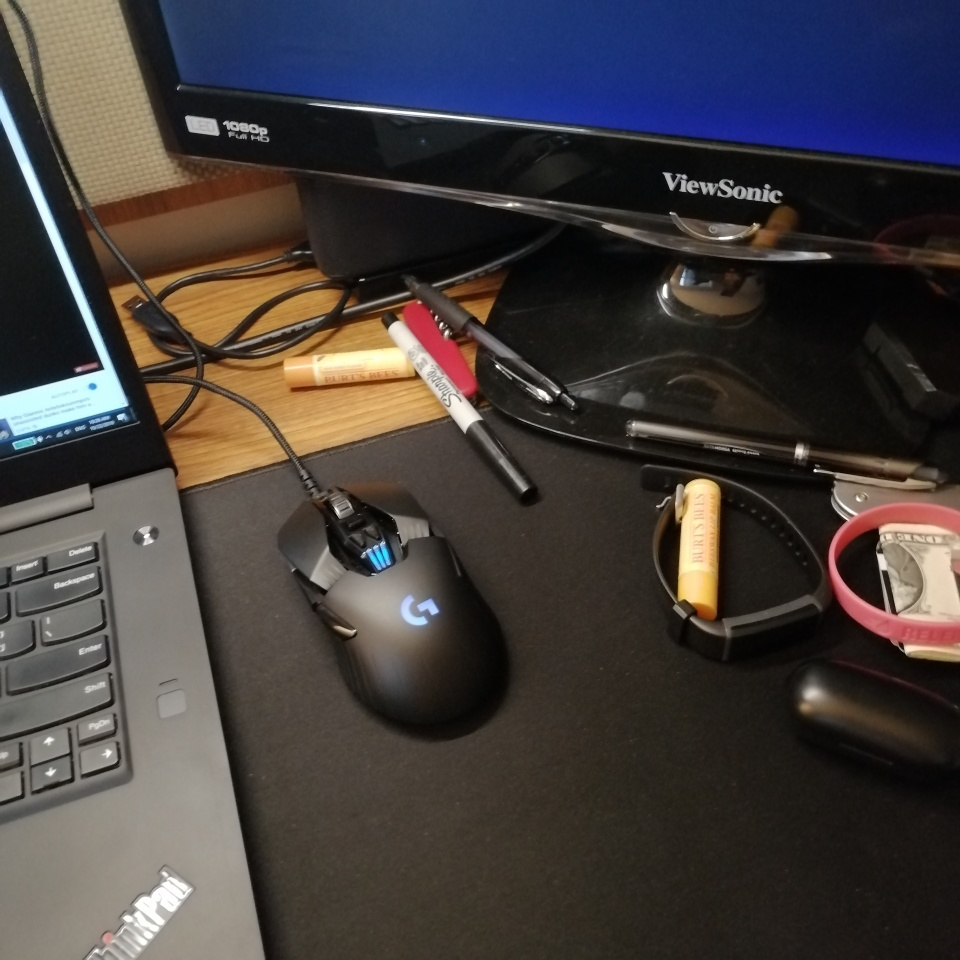chapstick: (678, 479, 723, 623), (284, 346, 417, 387)
